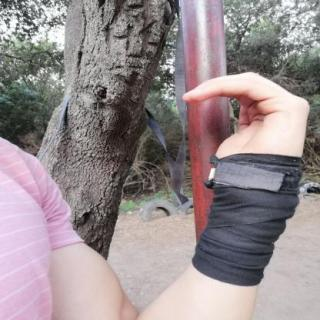HAA: (168, 62, 314, 194)
